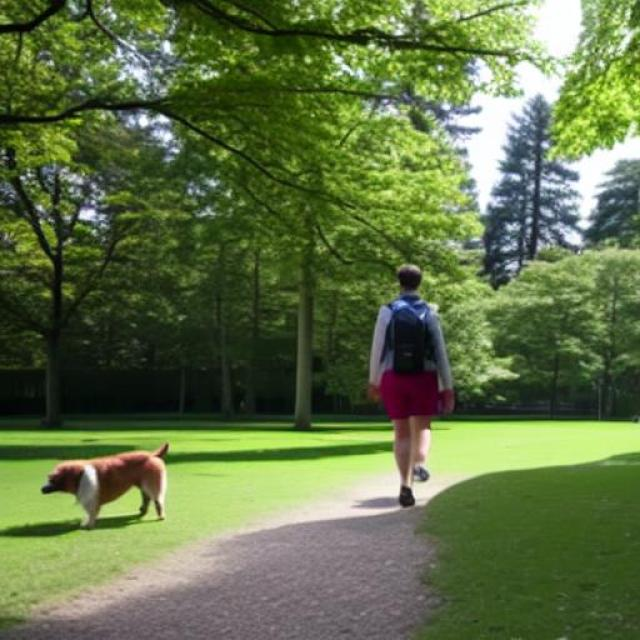Unleashed_Dog: (41, 372, 433, 530)
